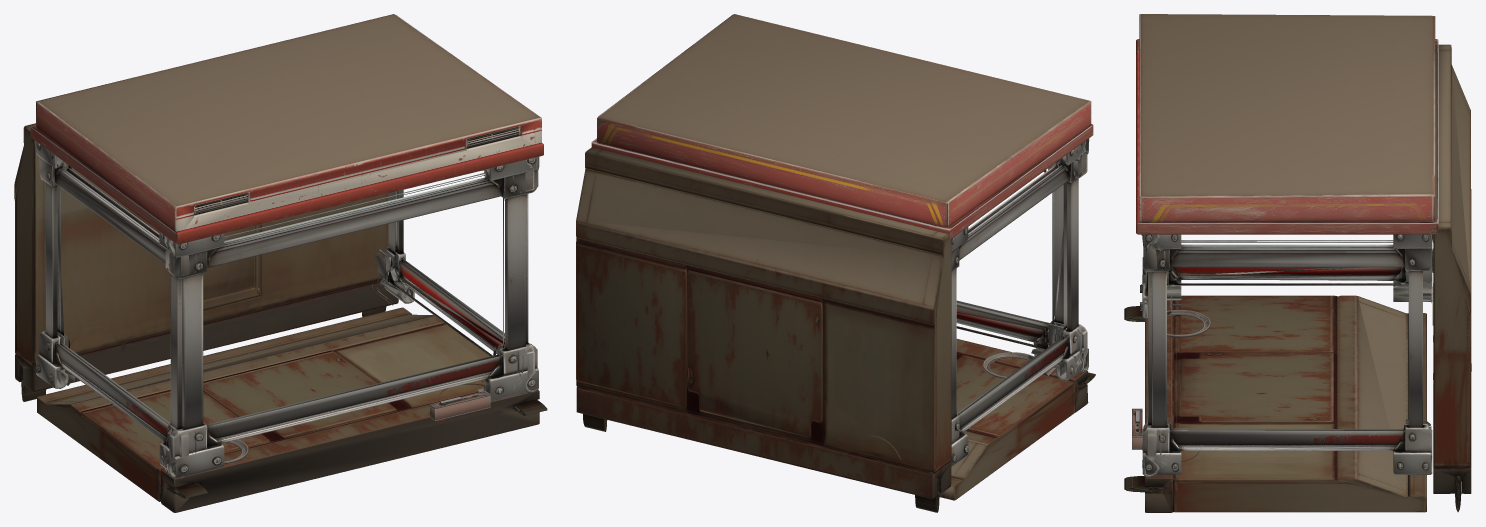
File: shell.glb
The picture shows the model from 3 angles, left to right: view 1: azimuth 30°, elevation 25°; view 2: azimuth 150°, elevation 25°; view 3: azimuth 270°, elevation 25°; orthographic projection. The views are drawn at different scales.
Parts seen in each view (by area): view 1: EXPORT_machine_top, EXPORT_machine_base, EXPORT_machine_back, EXPORT_machine_frame_front, EXPORT_machine_frame_left, EXPORT_machine_frame_right, EXPORT_machine_panel; view 2: EXPORT_machine_back, EXPORT_machine_top, EXPORT_machine_frame_left, EXPORT_machine_base, EXPORT_machine_frame_front; view 3: EXPORT_machine_top, EXPORT_machine_base, EXPORT_machine_frame_right, EXPORT_machine_back, EXPORT_machine_frame_left, EXPORT_machine_frame_front, EXPORT_machine_hole, EXPORT_machine_panel.
Boxes of the visible parts, x1=… form: EXPORT_machine_top: x1=30, y1=14, x2=543, y2=244; EXPORT_machine_base: x1=37, y1=307, x2=547, y2=512; EXPORT_machine_back: x1=14, y1=123, x2=398, y2=401; EXPORT_machine_frame_front: x1=161, y1=157, x2=539, y2=478; EXPORT_machine_frame_left: x1=35, y1=142, x2=200, y2=478; EXPORT_machine_frame_right: x1=372, y1=157, x2=537, y2=393; EXPORT_machine_panel: x1=430, y1=391, x2=490, y2=421; EXPORT_machine_back: x1=576, y1=147, x2=951, y2=512; EXPORT_machine_top: x1=591, y1=14, x2=1093, y2=239; EXPORT_machine_frame_left: x1=951, y1=140, x2=1086, y2=466; EXPORT_machine_base: x1=939, y1=339, x2=1095, y2=500; EXPORT_machine_frame_front: x1=956, y1=138, x2=1089, y2=373; EXPORT_machine_top: x1=1136, y1=14, x2=1438, y2=234; EXPORT_machine_base: x1=1124, y1=295, x2=1426, y2=512; EXPORT_machine_frame_right: x1=1142, y1=234, x2=1432, y2=474; EXPORT_machine_back: x1=1432, y1=44, x2=1471, y2=511; EXPORT_machine_frame_left: x1=1142, y1=257, x2=1432, y2=305; EXPORT_machine_frame_front: x1=1140, y1=234, x2=1171, y2=477; EXPORT_machine_hole: x1=1167, y1=310, x2=1210, y2=337; EXPORT_machine_panel: x1=1132, y1=408, x2=1142, y2=449.
Size of the model in its own units: 3.3 by 2.66 by 2.64.
6 materials, 6 textured.
